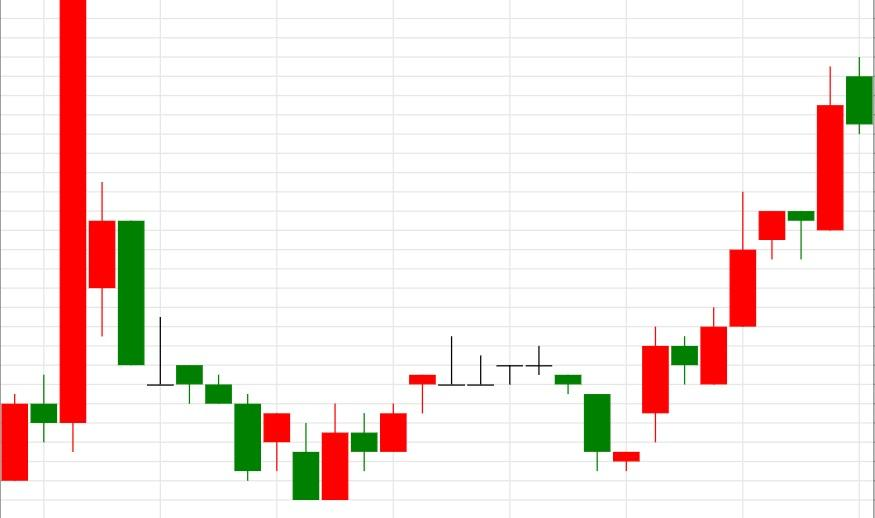bullish_engulfing_rise: (58, 0, 349, 501)
